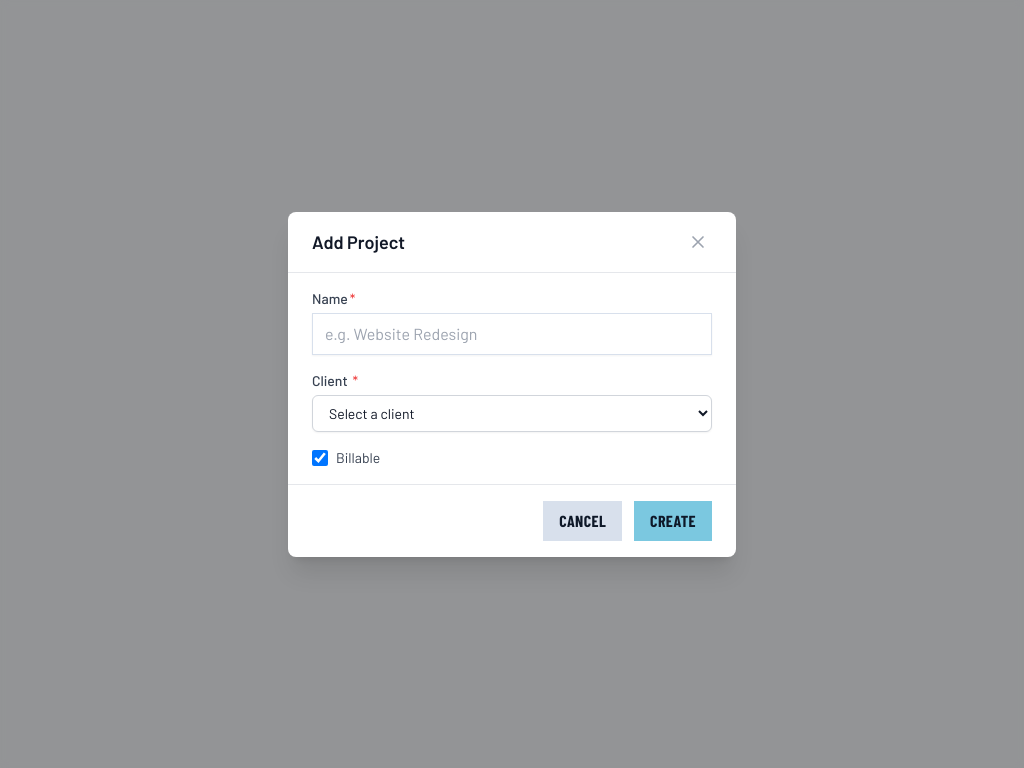
it: ProjectForm › shows validation error when client is not selected
Type "New Project" into the field with placeholder "e.g. Website Redesign".
click(512, 334); type("New Project")  # box [312,312,712,354]
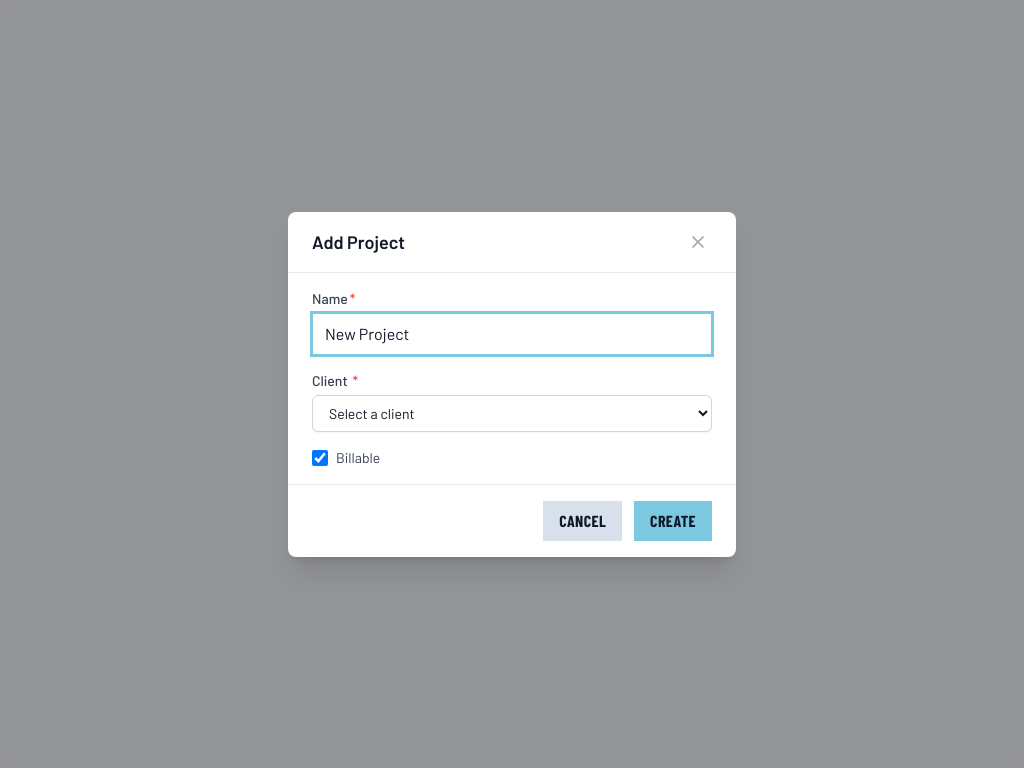
Click the button "Create".
click(673, 520)  # box [634,500,712,540]
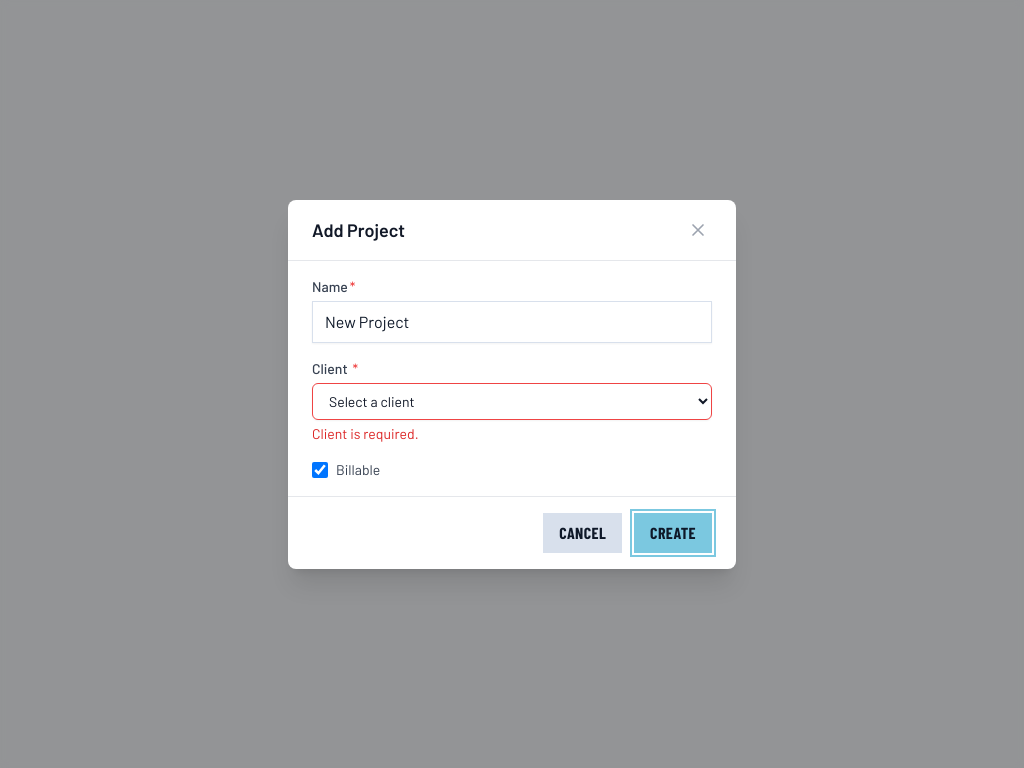
Result: the message reads "Client is required." at [312,424,419,442]
